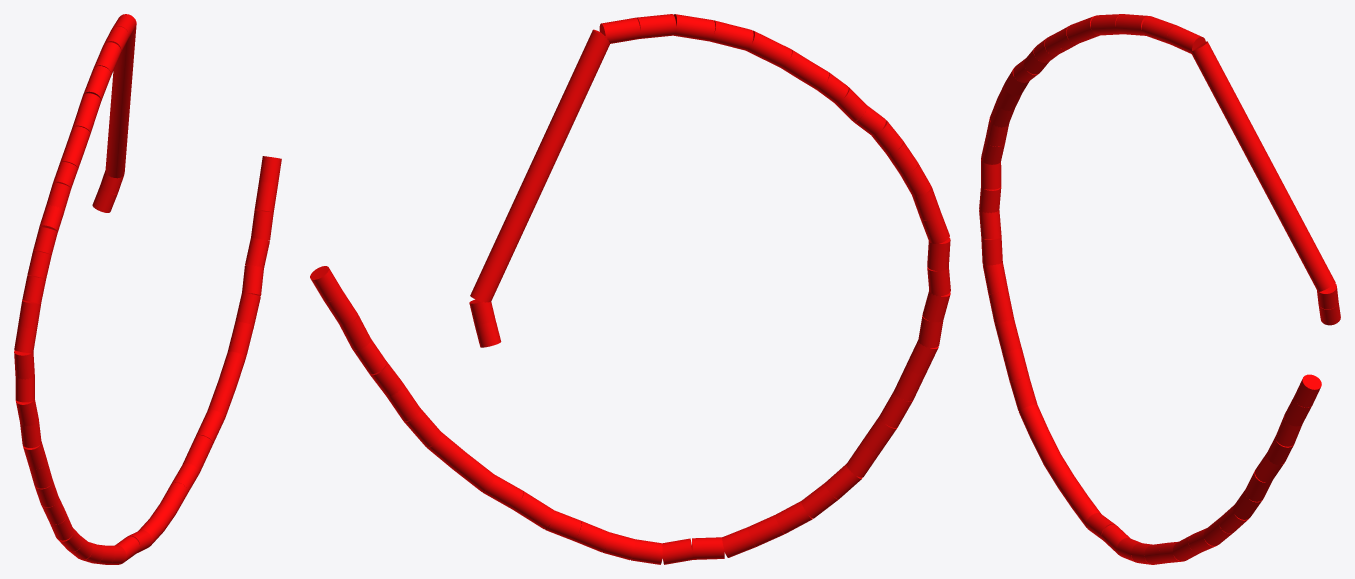
The picture shows the model from 3 angles, left to right: view 1: azimuth 30°, elevation 25°; view 2: azimuth 150°, elevation 25°; view 3: azimuth 270°, elevation 25°; orthographic projection. The views are drawn at different scales.
Visible parts, largest first — view 1: Cylinder(Clone) (×41); view 2: Cylinder(Clone) (×8); view 3: Cylinder(Clone) (×26).
Part boxes in pixels (left/top/right/bottom): Cylinder(Clone) (×41): left=14, top=19, right=281, bottom=545; Cylinder(Clone) (×8): left=453, top=14, right=791, bottom=529; Cylinder(Clone) (×26): left=979, top=14, right=1335, bottom=527.
Bounding box in the file's own units: 0.2484 × 0.287 × 0.1776.
